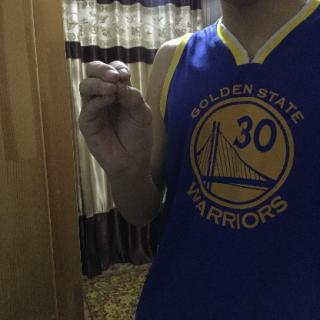HA: (70, 53, 162, 187)
